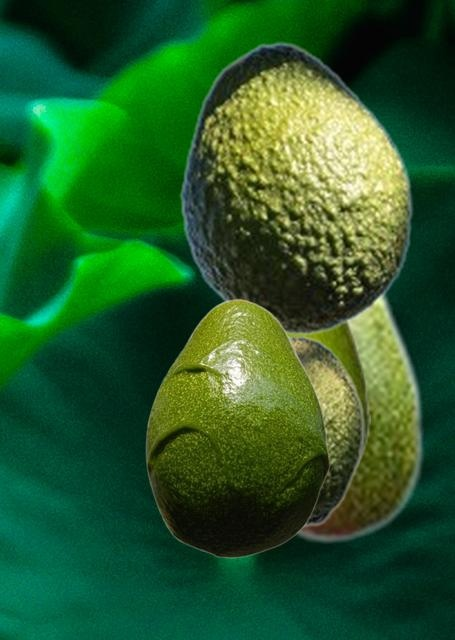avocado: (178, 41, 412, 335), (145, 298, 329, 557), (293, 287, 424, 545), (289, 335, 364, 528), (311, 322, 369, 475)
